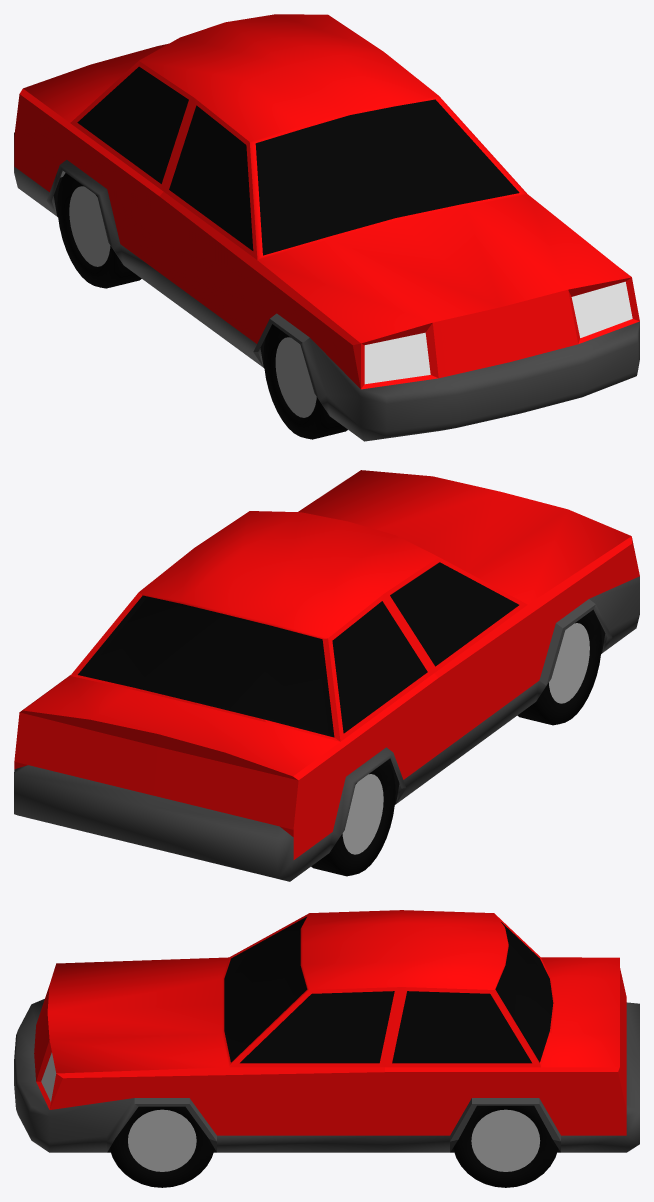
File: car.glb
3 views of the same model, one above another, from view 1: azimuth 30°, elevation 25°; view 2: azimuth 150°, elevation 25°; view 3: azimuth 270°, elevation 25° (orthographic). The views are drawn at different scales.
Visible parts, largest first — view 1: Car_Cube; view 2: Car_Cube; view 3: Car_Cube.
Boxes of the visible parts, x1=… form: Car_Cube: x1=14, y1=14, x2=639, y2=441; Car_Cube: x1=14, y1=470, x2=639, y2=881; Car_Cube: x1=14, y1=910, x2=639, y2=1187.
Bounding box in the file's own units: 2.1 × 1.59 × 4.67.
